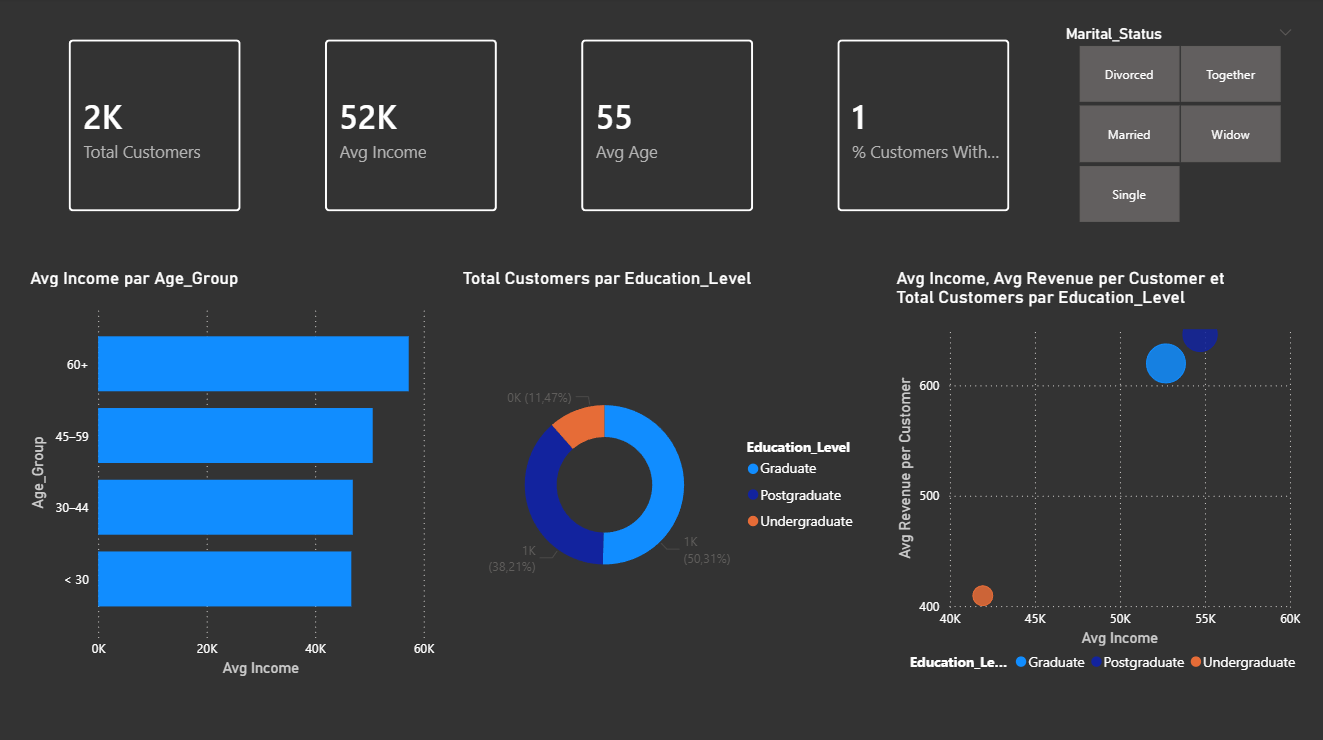

Layout of this report page (visuals, bound fields, positions):
{"tool":"powerbi","page":{"name":"Customer Overview","canvas":[1280,720],"ordinal":0},"visuals":[{"type":"cardVisual","fields":{"Data":["_Measures.Total Customers"]},"box":[50,24,200,200],"z":0},{"type":"cardVisual","fields":{"Data":["_Measures.Avg Income"]},"box":[297.3,24,200,200],"z":1000},{"type":"cardVisual","fields":{"Data":["_Measures.% Customers With Children"]},"box":[792,24,200,200],"z":2000},{"type":"cardVisual","fields":{"Data":["_Measures.Avg Age"]},"box":[544.7,24,200,200],"z":3000},{"type":"clusteredBarChart","fields":{"Category":["Dim_Customers.Age_Group"],"Y":["_Measures.Avg Income"]},"box":[24,260,400,400],"z":4000},{"type":"donutChart","fields":{"Y":["_Measures.Total Customers"],"Category":["Dim_Customers.Education_Level"]},"box":[442,260,400,400],"z":5000},{"type":"scatterChart","fields":{"X":["_Measures.Avg Income"],"Y":["_Measures.Avg Revenue per Customer"],"Series":["Dim_Customers.Education_Level"],"Size":["_Measures.Total Customers"]},"box":[860,260,400,400],"z":6000},{"type":"slicer","fields":{"Values":["Dim_Customers.Marital_Status"]},"box":[1016,22,244,202],"z":7000}]}

Visuals, with their boxes in screenshot pixels (x1, y1, x2, y2), scaled from the page's 1280x720 canvas onto the 1323x740 screenshot:
cardVisual - _Measures.Total Customers: left=52, top=25, right=258, bottom=230
cardVisual - _Measures.Avg Income: left=307, top=25, right=514, bottom=230
cardVisual - _Measures.% Customers With Children: left=819, top=25, right=1025, bottom=230
cardVisual - _Measures.Avg Age: left=563, top=25, right=770, bottom=230
clusteredBarChart - Dim_Customers.Age_Group x _Measures.Avg Income: left=25, top=267, right=438, bottom=678
donutChart - _Measures.Total Customers x Dim_Customers.Education_Level: left=457, top=267, right=870, bottom=678
scatterChart - _Measures.Avg Income x _Measures.Avg Revenue per Customer: left=889, top=267, right=1302, bottom=678
slicer - Dim_Customers.Marital_Status: left=1050, top=23, right=1302, bottom=230
